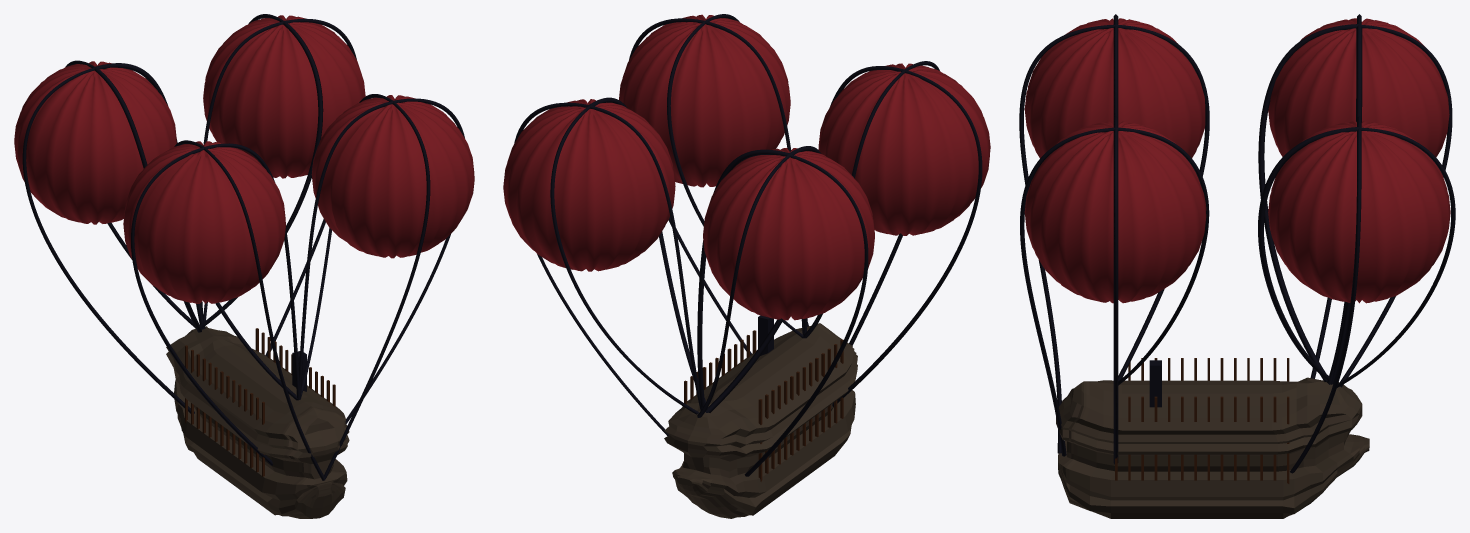
Rendered from SettelShip.fbx.
3 views of the same model, side by side, from view 1: azimuth 30°, elevation 25°; view 2: azimuth 150°, elevation 25°; view 3: azimuth 270°, elevation 25° (orthographic). The views are drawn at different scales.
Parts seen in each view (by area): view 1: Sphere.000, Sphere.001, Rumpf, Sphere.002, Sphere.003, NurbsPath.003, LeftReling, LeftReling.001; view 2: Sphere.002, Sphere.003, Rumpf, Sphere.001, Sphere.000, NurbsPath.003, LeftReling, LeftReling.001; view 3: Rumpf, Sphere.003, Sphere.000, NurbsPath.003, Sphere.001, Sphere.002, LeftReling.001, LeftReling, Schornstein.
Part boxes in pixels (left/top/right/bottom): Sphere.000: left=311, top=95, right=474, bottom=258; Sphere.001: left=123, top=141, right=285, bottom=303; Rumpf: left=166, top=326, right=349, bottom=518; Sphere.002: left=14, top=61, right=176, bottom=224; Sphere.003: left=203, top=15, right=365, bottom=178; NurbsPath.003: left=22, top=14, right=464, bottom=480; LeftReling: left=185, top=345, right=264, bottom=476; LeftReling.001: left=255, top=328, right=335, bottom=406; Sphere.002: left=703, top=148, right=874, bottom=320; Sphere.003: left=503, top=99, right=675, bottom=271; Rumpf: left=664, top=323, right=857, bottom=518; Sphere.001: left=818, top=63, right=990, bottom=235; Sphere.000: left=619, top=14, right=790, bottom=187; NurbsPath.003: left=514, top=14, right=982, bottom=476; LeftReling: left=758, top=339, right=843, bottom=481; LeftReling.001: left=684, top=330, right=756, bottom=460; Rumpf: left=1056, top=377, right=1369, bottom=518; Sphere.003: left=1268, top=121, right=1450, bottom=303; Sphere.000: left=1024, top=121, right=1206, bottom=303; NurbsPath.003: left=1019, top=14, right=1455, bottom=473; Sphere.001: left=1024, top=18, right=1205, bottom=158; Sphere.002: left=1268, top=18, right=1449, bottom=157; LeftReling.001: left=1115, top=396, right=1289, bottom=483; LeftReling: left=1128, top=358, right=1289, bottom=381; Schornstein: left=1149, top=360, right=1161, bottom=407.
Size of the model in its own units: 7136 by 7891 by 7170.
